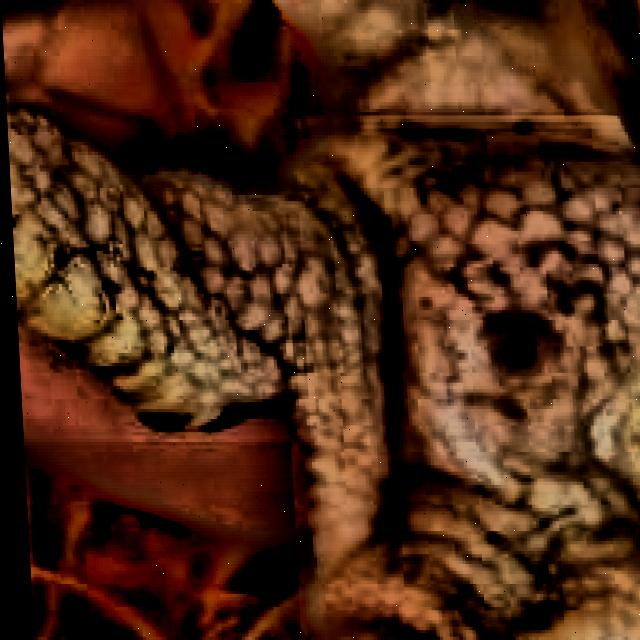Bumble foot: (343, 178, 640, 502)
